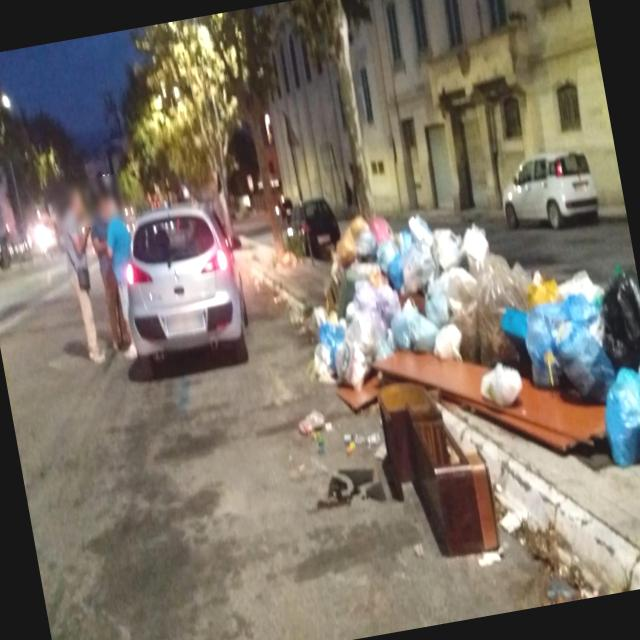garbage: (284, 169, 640, 578)
